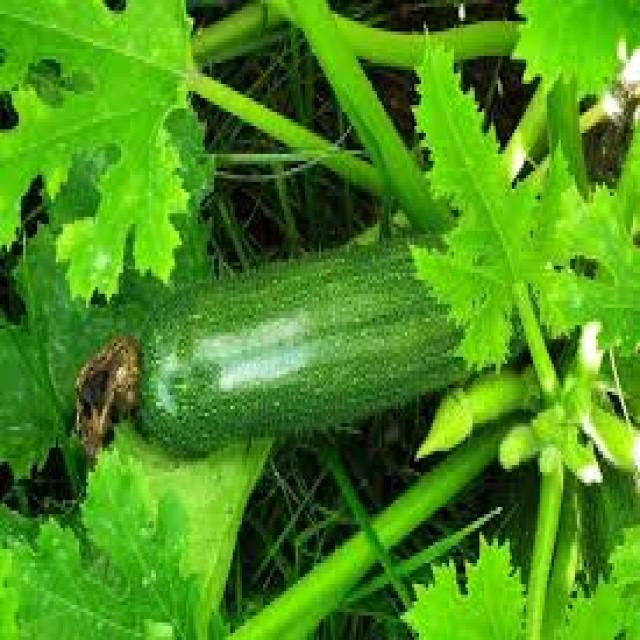Zucchini: (128, 243, 524, 407)
